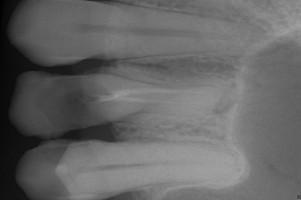Furcation Involvement: (213, 94, 234, 114)
